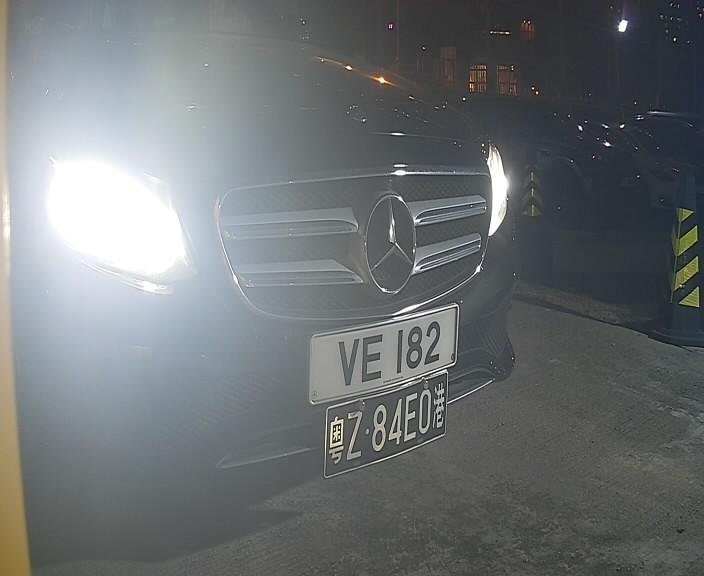License Plate: (298, 297, 467, 418)
